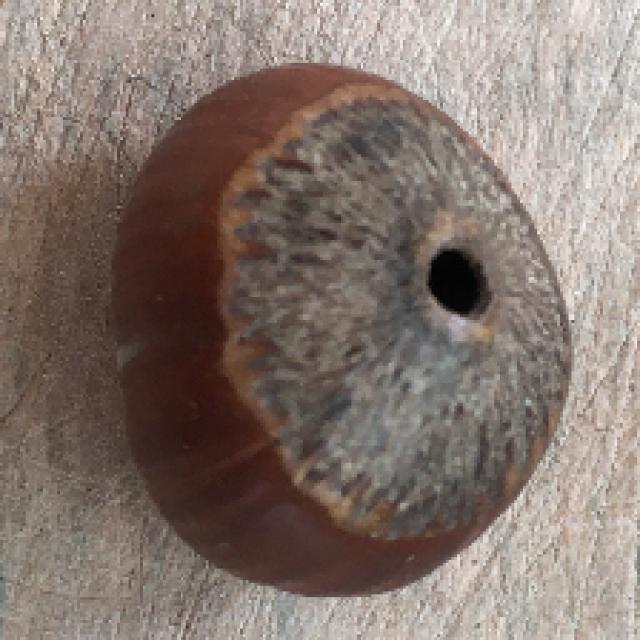damagedHazelnut: (89, 50, 590, 619)
